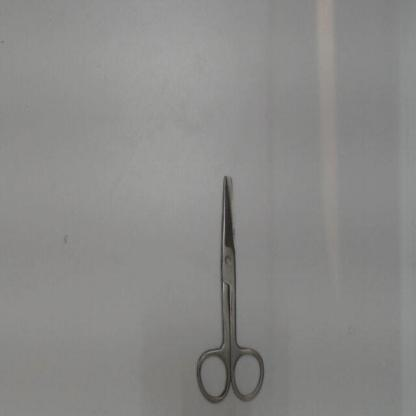Dressing Scissors: (186, 160, 270, 412)
